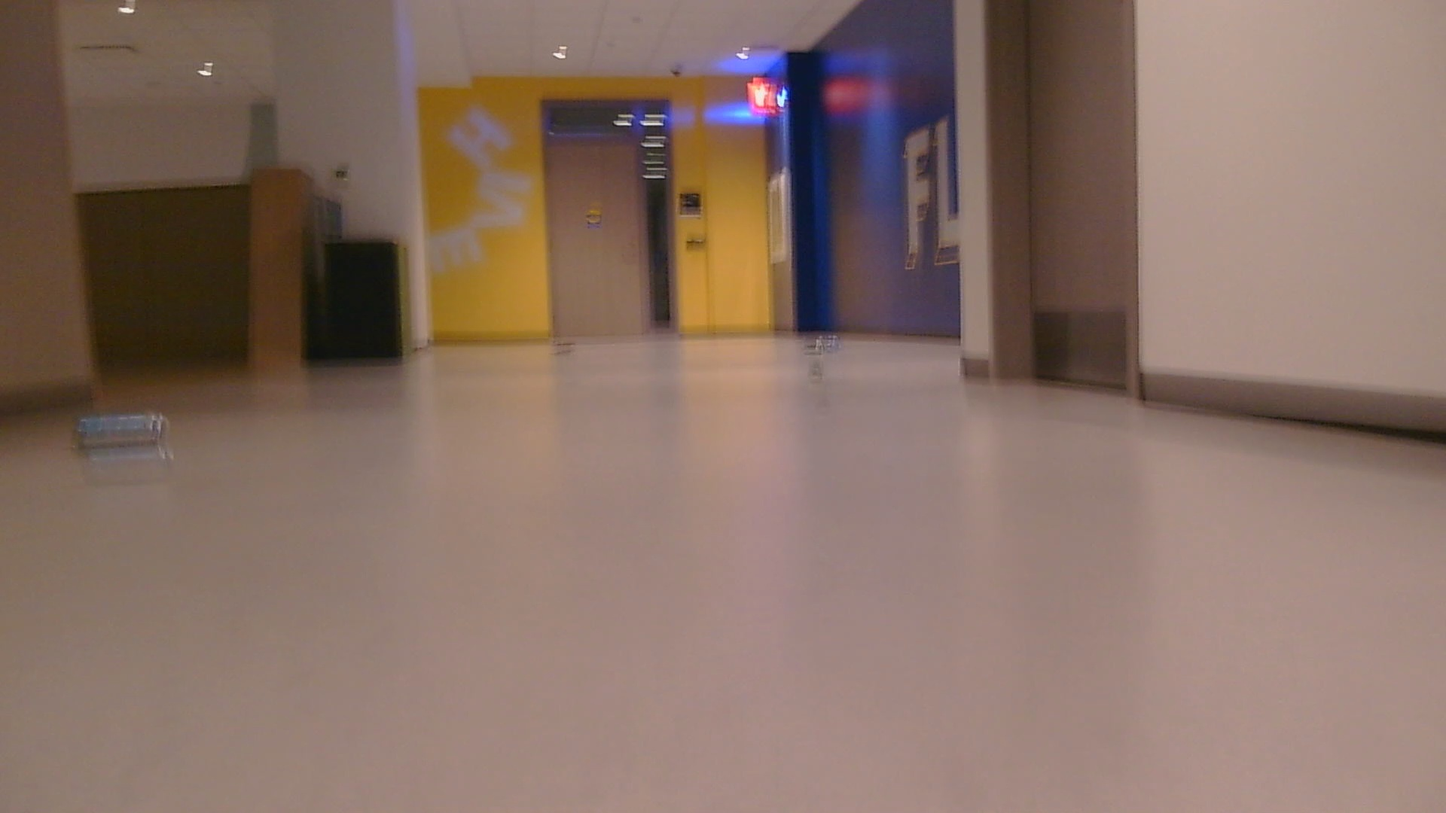can: (119, 434, 121, 437)
carton: (63, 406, 172, 455), (536, 343, 583, 354), (804, 340, 837, 349), (804, 364, 833, 374)
